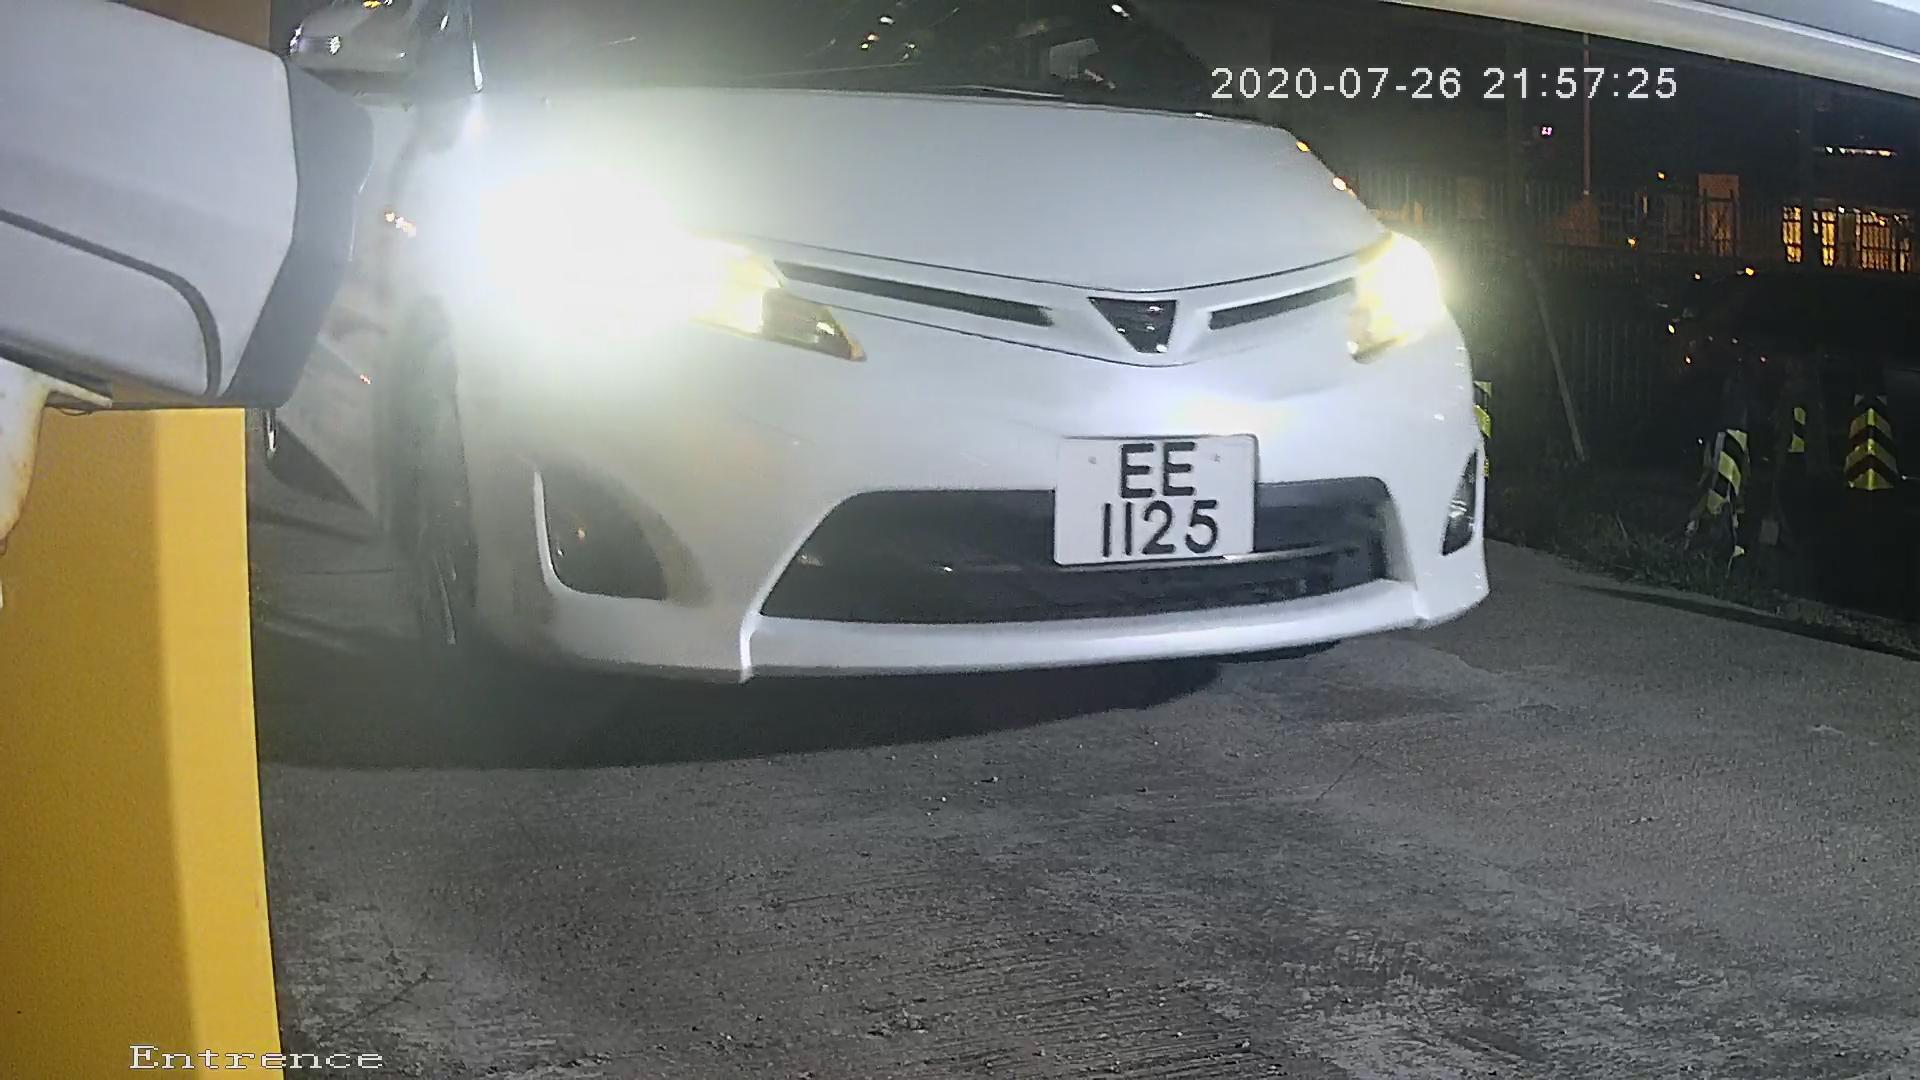Car: (103, 54, 1586, 762)
License Plate: (1021, 415, 1269, 574)
